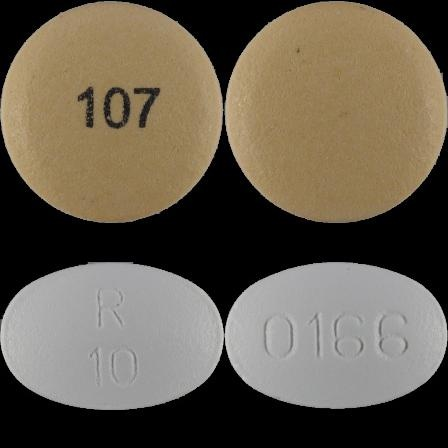0904-6375: (0, 0, 224, 224)
